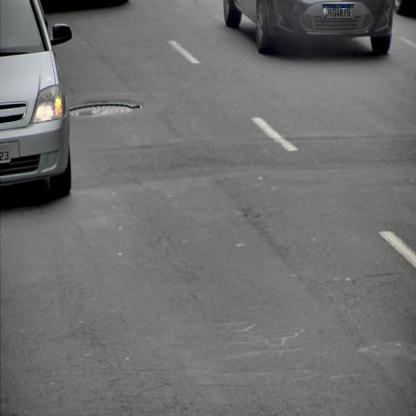PlacaM: (323, 4, 354, 19)
